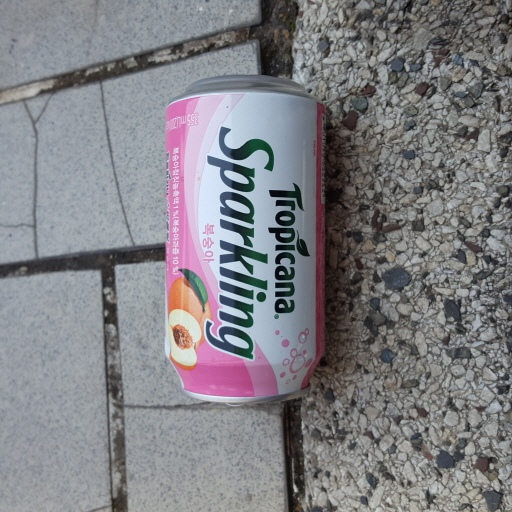Metal_0: (164, 75, 329, 405)
